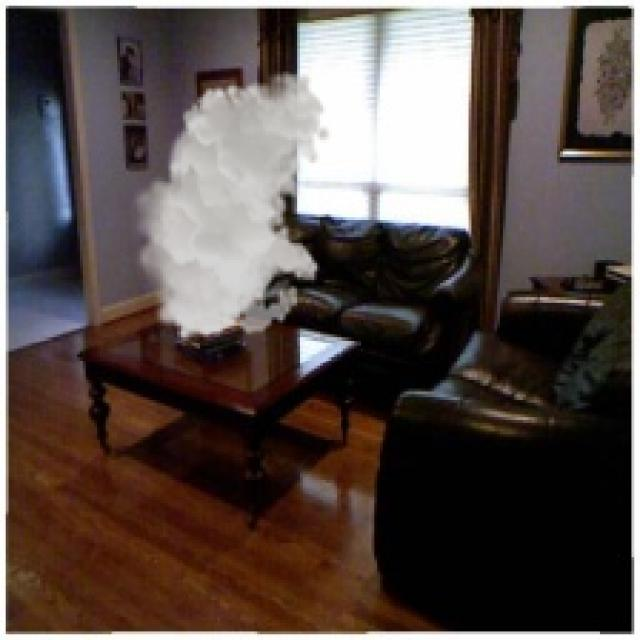smoke: (128, 71, 332, 343)
